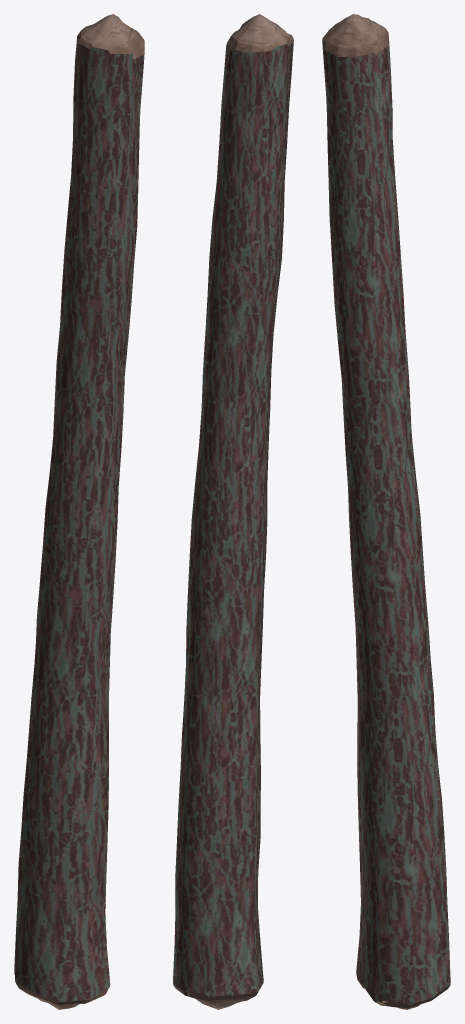
3 views of the same model, side by side, from view 1: azimuth 90°, elevation 25°; view 2: azimuth 150°, elevation 25°; view 3: azimuth 270°, elevation 25° (orthographic). The views are drawn at different scales.
Parts seen in each view (by area): view 1: SM_MapleTree_02_tree_quarters_bottom_LOD0; view 2: SM_MapleTree_02_tree_quarters_bottom_LOD0; view 3: SM_MapleTree_02_tree_quarters_bottom_LOD0.
Part boxes in pixels (box(x1,y1,x2,y2)): SM_MapleTree_02_tree_quarters_bottom_LOD0: box(14, 14, 144, 1009); SM_MapleTree_02_tree_quarters_bottom_LOD0: box(173, 14, 293, 1009); SM_MapleTree_02_tree_quarters_bottom_LOD0: box(322, 14, 450, 1009).
Size of the model in its own units: 0.6829 by 7.31 by 0.8613.
1 material, 1 textured.
